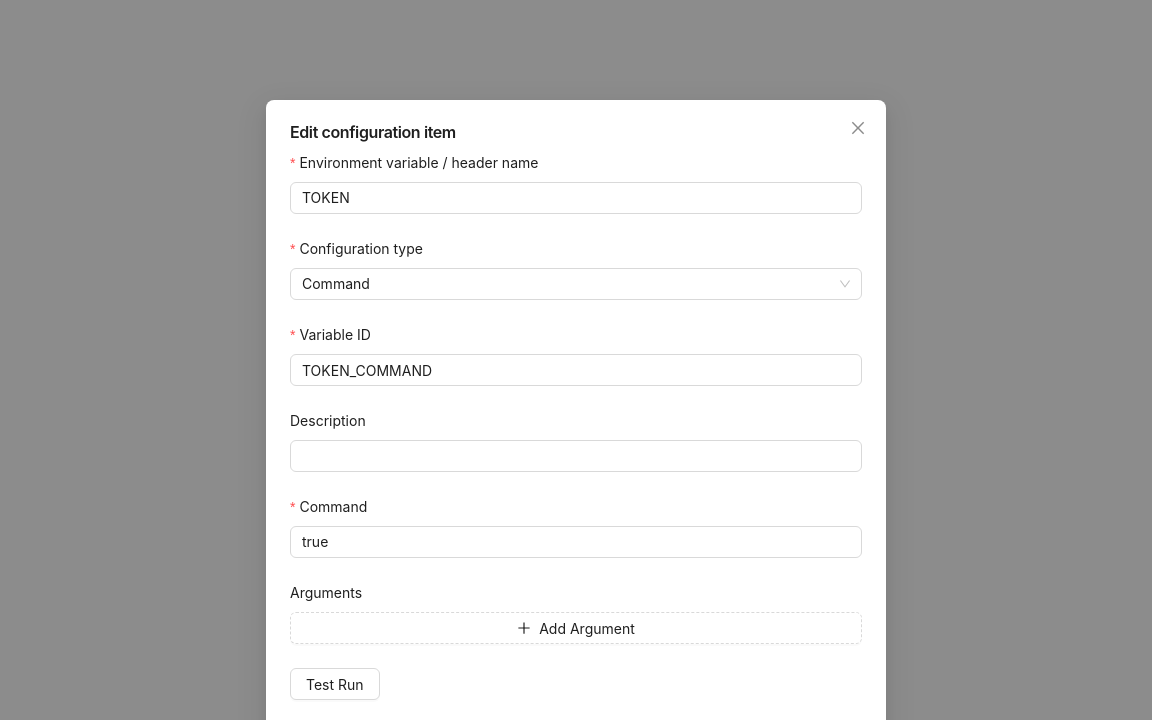
Test: McpServerForm technical fields and config value sources › reports a successful Command preview with empty stdout
Click the button "Test Run": (335,684) [290,668,380,700]
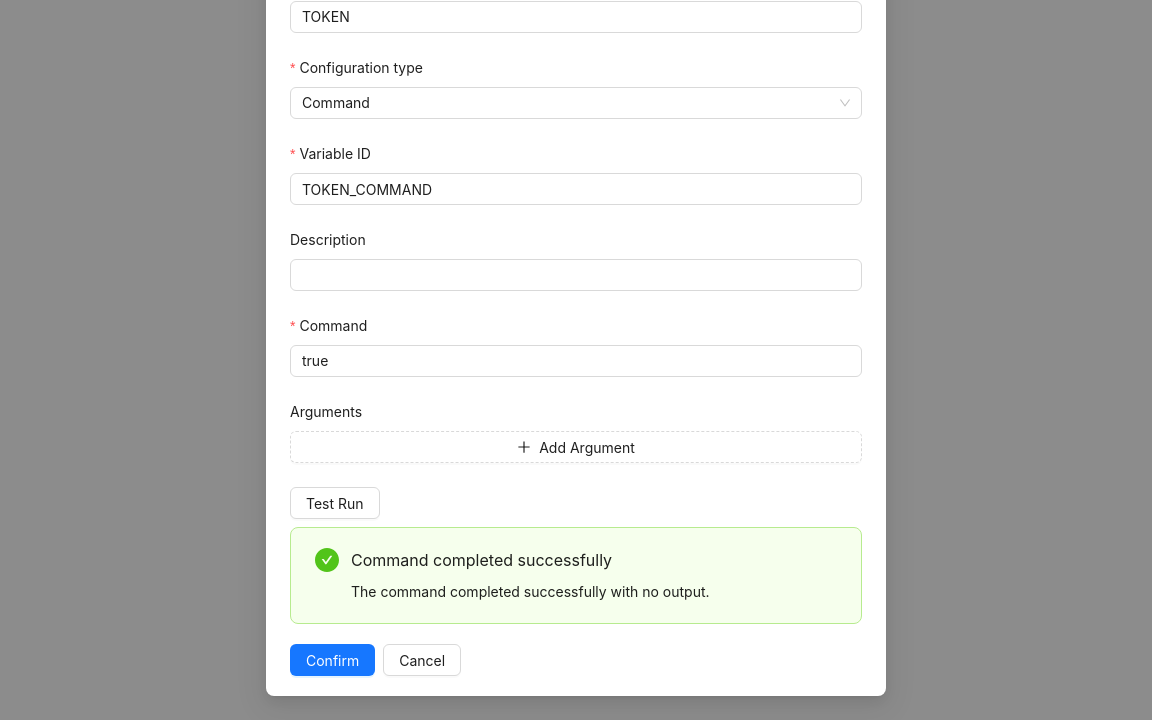
Expected: the text "The command completed successfully with no output." is shown, [351,583,710,600]
